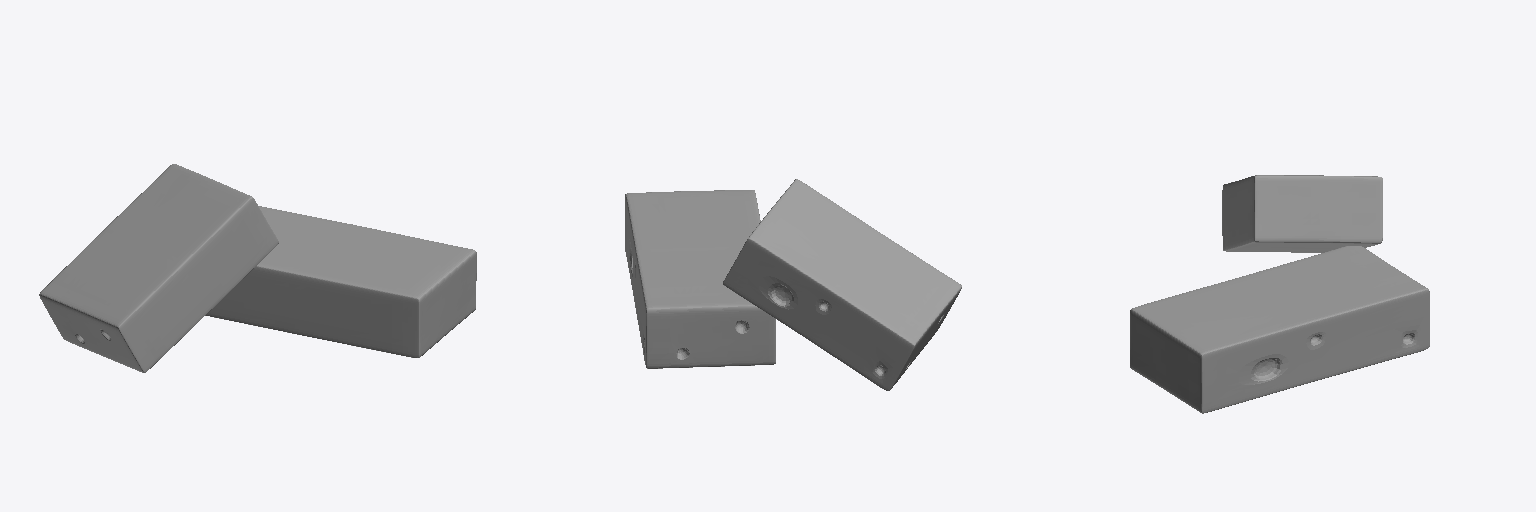
Rendered from queso.obj.
3 views of the same model, side by side, from view 1: azimuth 30°, elevation 25°; view 2: azimuth 150°, elevation 25°; view 3: azimuth 270°, elevation 25° (orthographic).
Visible parts, largest first — view 1: objdeska_objdeska.001, objdeska_objdeska.000; view 2: objdeska_objdeska.001, objdeska_objdeska.000; view 3: objdeska_objdeska.000, objdeska_objdeska.001.
Boxes of the visible parts, x1,y1,x2,y2 form: objdeska_objdeska.001: [39, 164, 278, 372]; objdeska_objdeska.000: [205, 206, 476, 357]; objdeska_objdeska.001: [723, 179, 961, 390]; objdeska_objdeska.000: [625, 190, 775, 368]; objdeska_objdeska.000: [1130, 246, 1429, 413]; objdeska_objdeska.001: [1222, 175, 1382, 252].
Bounding box in the file's own units: 1.41 × 0.5357 × 1.01.